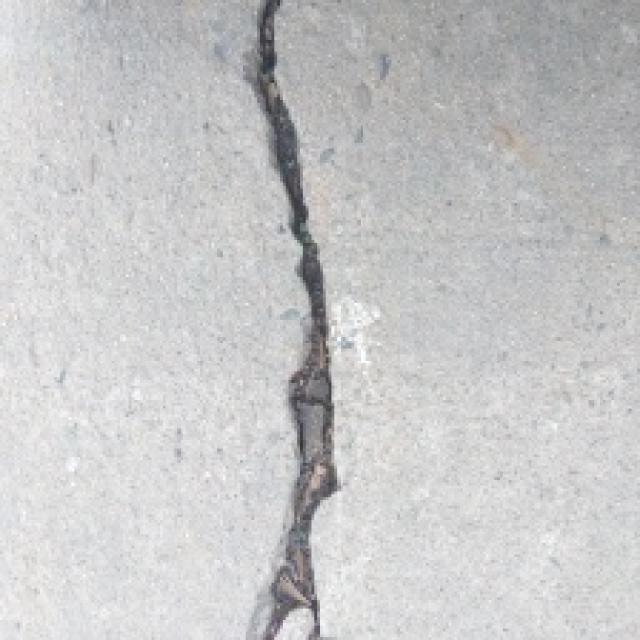crack: (196, 0, 382, 640)
